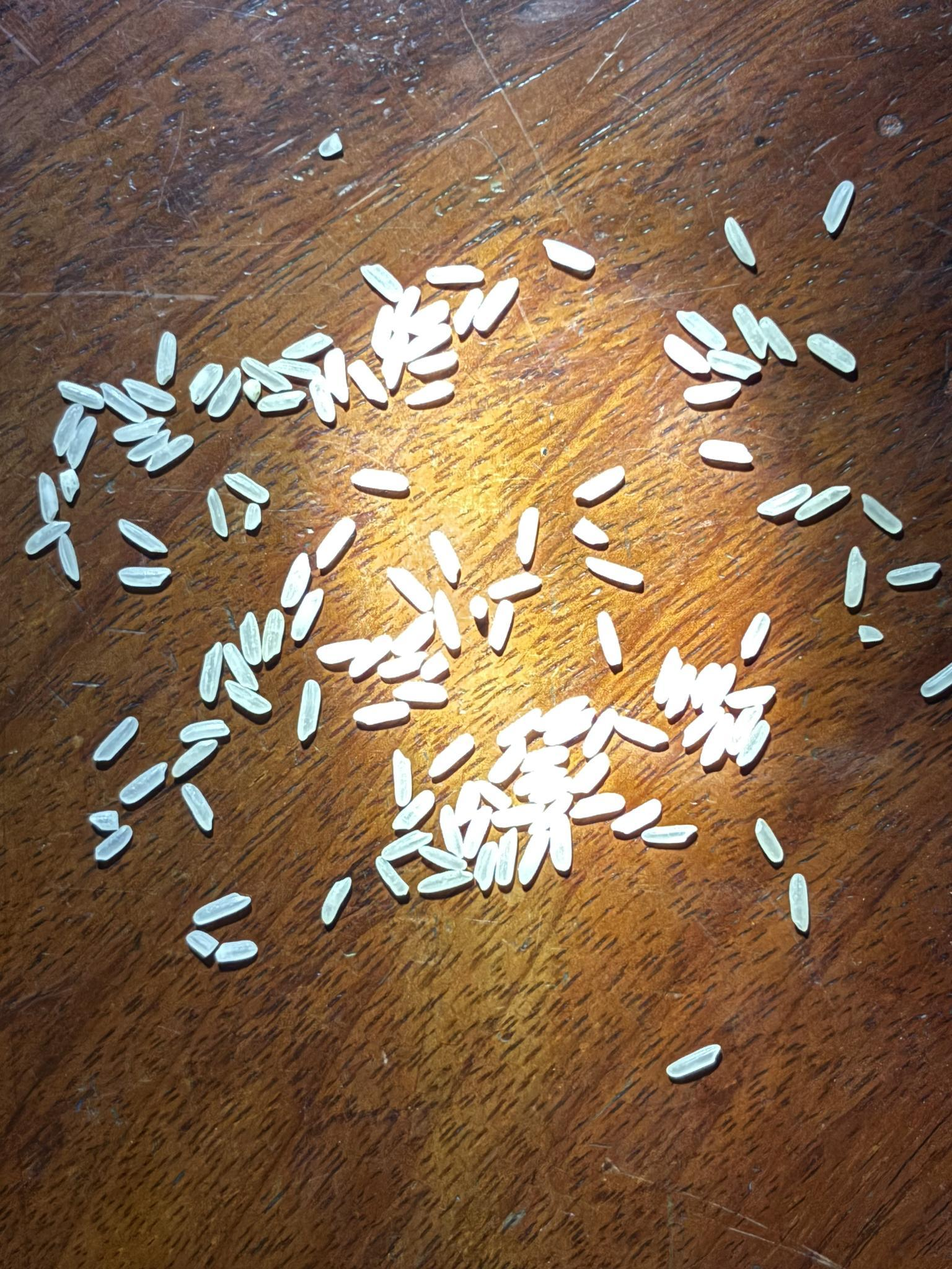Rice-th-y-nh: (472, 275, 520, 334), (314, 517, 358, 571), (91, 716, 140, 763), (386, 565, 435, 612), (676, 308, 728, 352), (427, 733, 476, 779), (837, 546, 873, 608), (794, 484, 852, 522), (805, 332, 857, 374), (118, 762, 168, 805), (542, 708, 597, 747), (401, 323, 452, 365), (318, 347, 355, 403), (885, 556, 941, 593), (731, 304, 769, 358), (699, 712, 735, 769), (488, 735, 529, 785), (538, 694, 589, 734), (756, 482, 812, 518), (663, 334, 711, 376), (240, 356, 293, 394), (99, 383, 147, 424), (206, 367, 244, 418), (347, 358, 389, 404), (279, 553, 312, 611), (612, 798, 663, 835), (612, 715, 669, 748), (170, 738, 218, 777), (290, 587, 324, 642), (581, 708, 619, 757), (431, 589, 462, 649), (585, 555, 643, 587), (392, 613, 436, 655), (391, 789, 436, 830), (496, 707, 542, 747), (192, 893, 249, 925), (517, 830, 550, 885), (860, 493, 903, 535), (573, 467, 626, 501), (701, 664, 737, 714), (146, 434, 193, 472), (348, 638, 392, 678), (359, 263, 404, 302), (65, 416, 98, 469), (760, 316, 798, 362), (512, 765, 566, 797), (543, 239, 595, 272), (429, 530, 462, 582), (179, 782, 214, 831), (571, 790, 626, 821), (653, 647, 684, 702), (404, 300, 450, 337), (723, 217, 757, 267), (117, 520, 167, 554), (122, 377, 175, 409), (822, 180, 854, 233), (663, 667, 695, 720), (708, 348, 761, 380), (23, 520, 71, 555), (570, 753, 610, 795), (667, 1047, 721, 1078), (737, 720, 771, 769), (729, 705, 763, 754), (513, 506, 542, 563), (223, 643, 258, 690), (52, 403, 83, 456), (688, 662, 722, 709), (682, 379, 741, 406), (223, 682, 272, 714), (316, 637, 372, 665), (452, 287, 484, 336), (681, 710, 721, 749), (549, 812, 575, 872), (92, 825, 133, 863), (739, 613, 772, 660), (487, 572, 542, 600), (595, 612, 623, 667), (462, 806, 491, 859), (198, 643, 224, 702), (381, 830, 432, 860), (114, 415, 165, 445), (725, 683, 776, 713), (521, 742, 570, 773), (126, 430, 172, 463), (224, 471, 270, 504), (187, 362, 223, 404), (281, 331, 333, 360), (320, 877, 352, 924), (296, 681, 321, 740), (753, 818, 785, 864), (487, 599, 515, 651), (354, 700, 410, 726), (405, 378, 455, 407), (368, 305, 395, 358), (307, 376, 337, 423), (57, 380, 104, 410), (699, 438, 753, 464), (378, 651, 426, 680), (380, 336, 406, 389), (354, 467, 409, 492), (203, 489, 231, 538), (788, 872, 811, 931), (496, 828, 519, 887), (425, 263, 484, 286), (270, 355, 320, 382), (452, 779, 482, 824), (392, 286, 421, 332), (375, 857, 409, 896), (438, 806, 464, 857), (256, 388, 306, 414), (394, 680, 448, 704), (408, 350, 457, 376), (391, 750, 413, 807), (472, 778, 511, 810), (239, 613, 263, 665), (260, 609, 284, 661), (493, 803, 542, 828), (418, 869, 469, 893), (154, 331, 177, 384), (643, 823, 697, 845), (529, 776, 571, 804), (474, 842, 499, 889), (920, 662, 952, 698), (419, 845, 465, 870), (572, 516, 610, 546), (56, 534, 80, 581), (180, 719, 229, 742), (37, 472, 59, 522), (215, 941, 257, 962), (419, 652, 449, 681), (544, 793, 573, 820), (89, 809, 120, 833), (186, 930, 218, 953), (240, 502, 264, 531), (318, 133, 342, 157), (857, 624, 884, 644), (528, 812, 551, 835), (242, 378, 263, 403), (468, 595, 489, 620)
